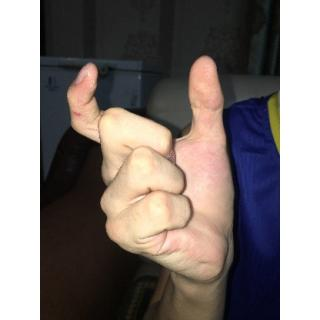NOON: (61, 51, 237, 287)
